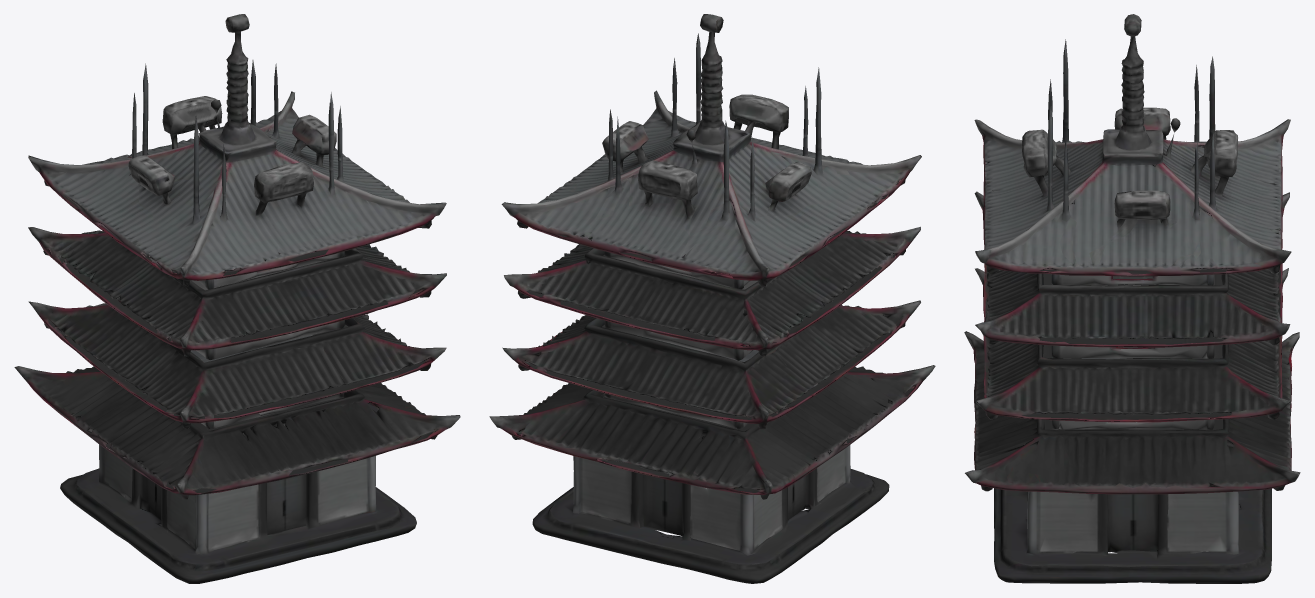
The model's file is lm_pagoda.glb.
3 renders of one model, left to right at view 1: azimuth 30°, elevation 25°; view 2: azimuth 150°, elevation 25°; view 3: azimuth 270°, elevation 25°, orthographic. The views are drawn at different scales.
Parts seen in each view (by area): view 1: world; view 2: world; view 3: world.
Boxes of the visible parts, x1,y1,x2,y2 form: world: [14, 14, 460, 583]; world: [489, 14, 935, 583]; world: [964, 14, 1300, 583].
Bounding box in the file's own units: 0.5565 × 0.9272 × 0.5558.
1 material, 1 textured.
